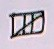kok: (1, 2, 54, 48)
